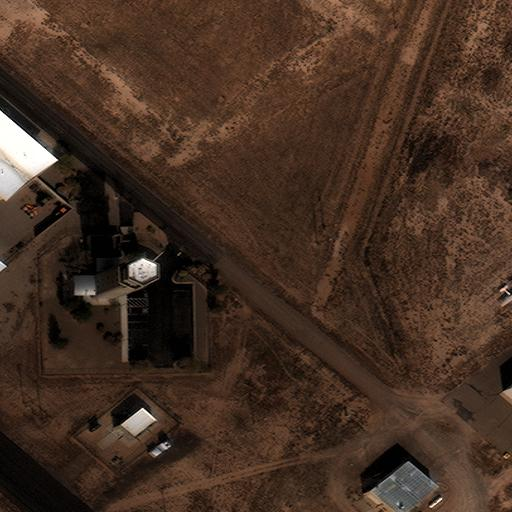Small Civil Transport: (502, 286, 512, 306)
